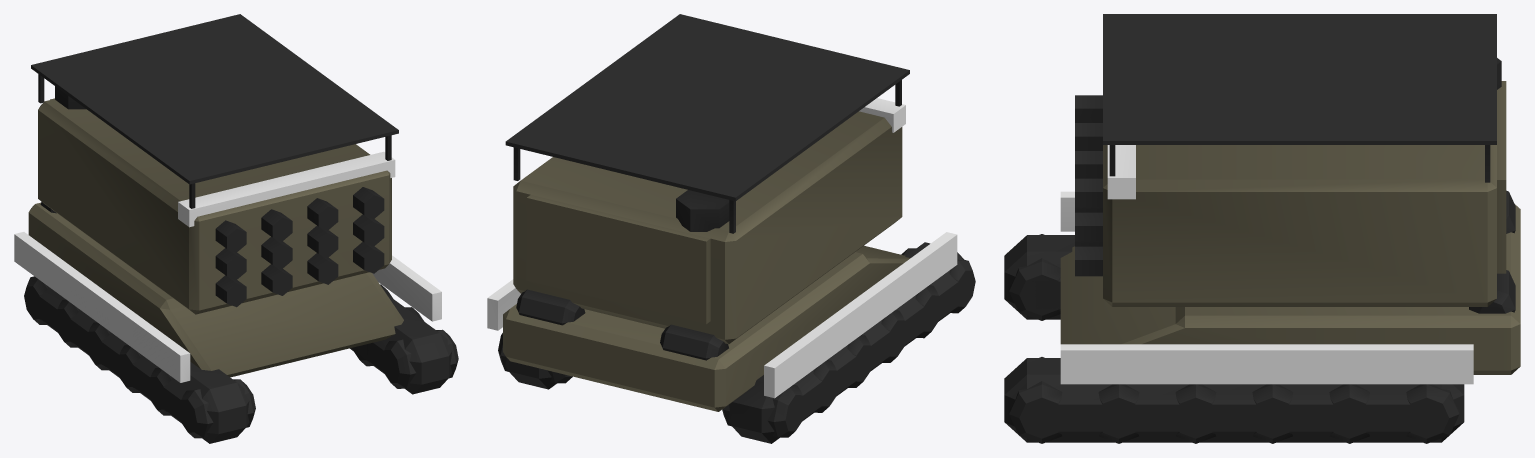
The model's file is ru-tos-1a.glb.
3 renders of one model, left to right at view 1: azimuth 30°, elevation 25°; view 2: azimuth 150°, elevation 25°; view 3: azimuth 270°, elevation 25°, orthographic. The views are drawn at different scales.
Parts seen in each view (by area): view 1: turret, ru-tos-1a; view 2: turret, ru-tos-1a; view 3: turret, ru-tos-1a.
Boxes of the visible parts, x1=… form: turret: x1=31, y1=14, x2=398, y2=314; ru-tos-1a: x1=14, y1=202, x2=458, y2=443; turret: x1=505, y1=14, x2=909, y2=344; ru-tos-1a: x1=487, y1=232, x2=975, y2=443; turret: x1=1075, y1=14, x2=1506, y2=306; ru-tos-1a: x1=1004, y1=190, x2=1520, y2=443.
Bounding box in the file's own units: 0.8 × 0.695 × 1.1.
